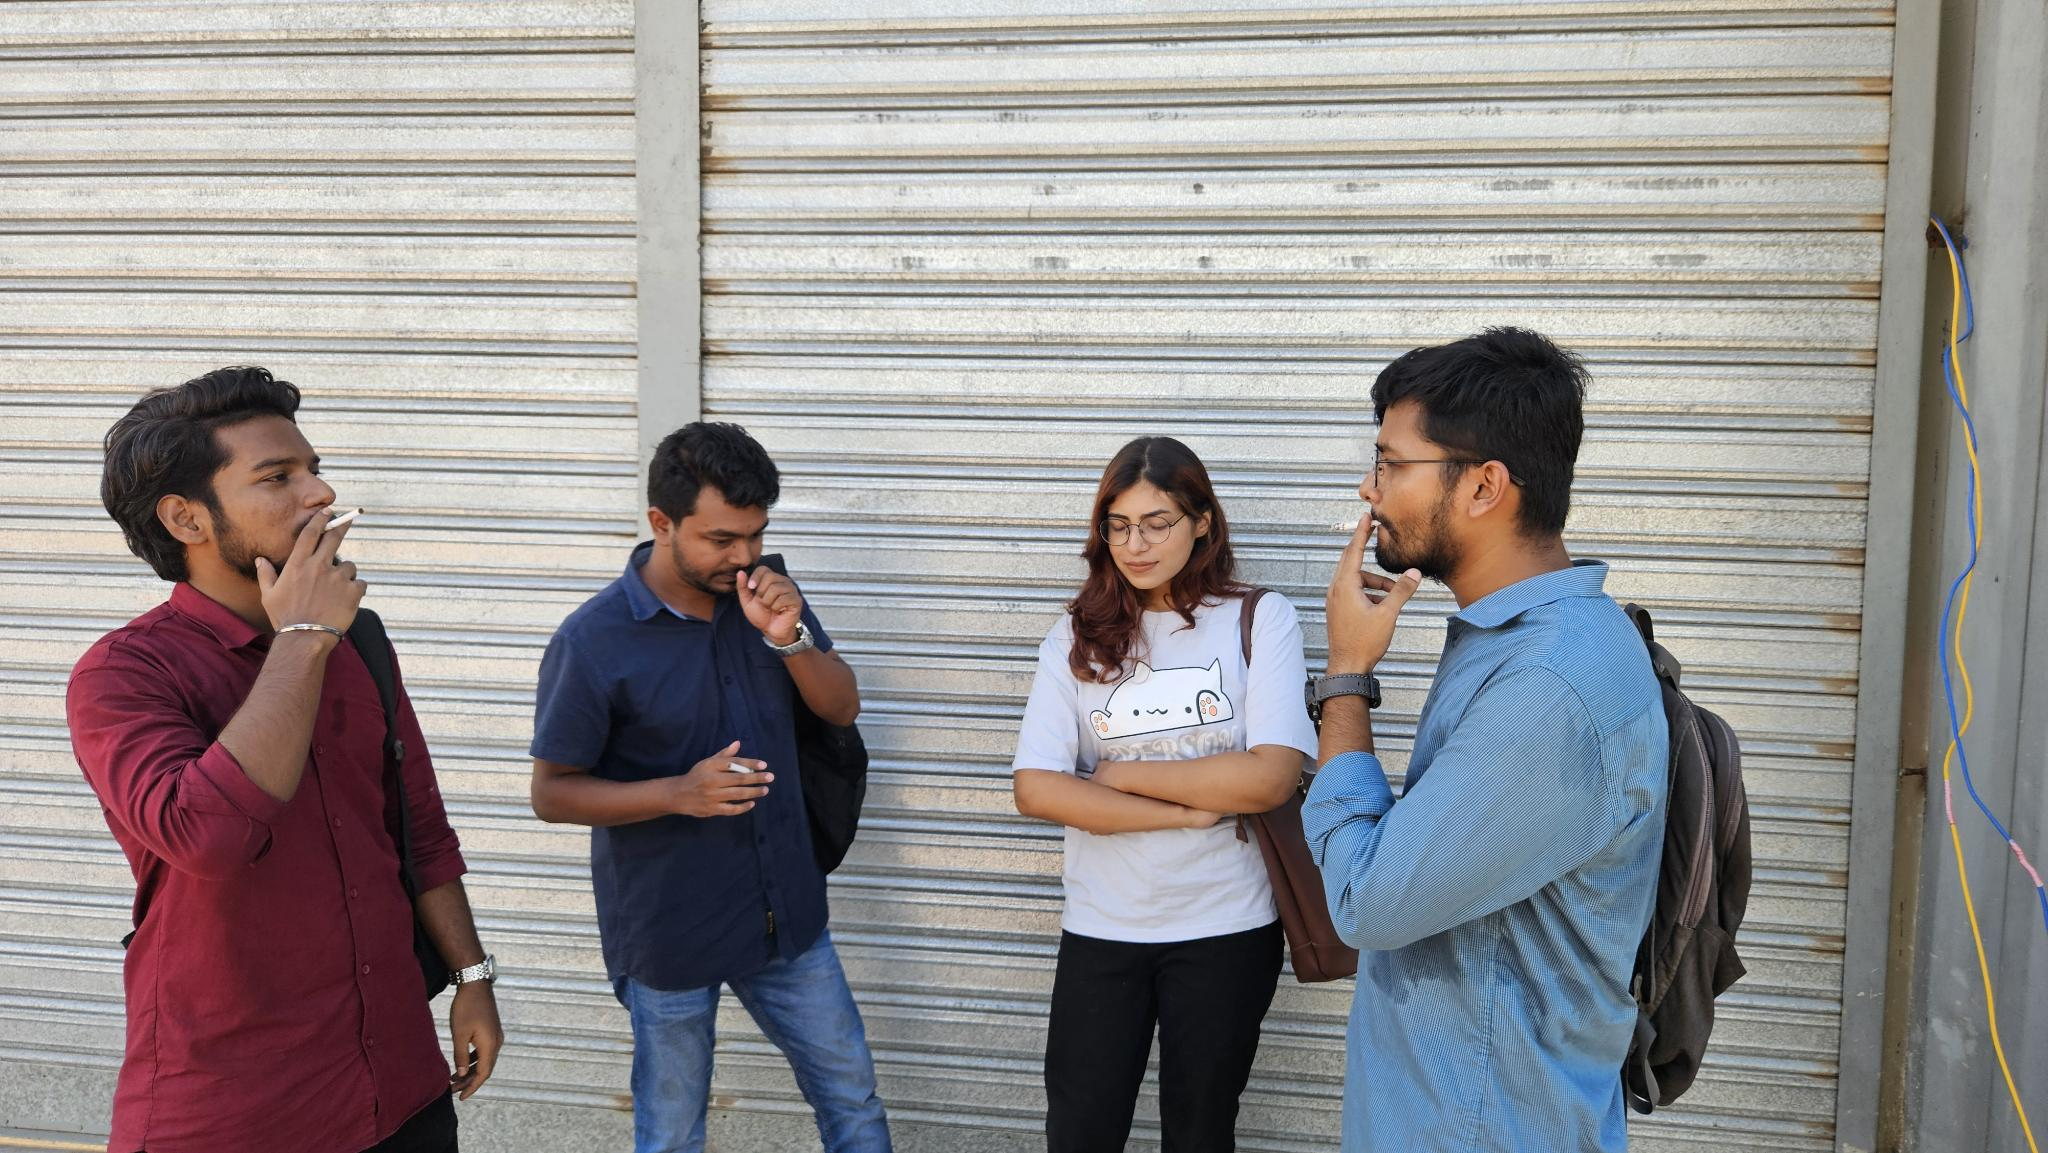cigarette: (318, 506, 367, 537), (1328, 517, 1384, 534), (723, 761, 757, 776)
nonSmoker: (1014, 434, 1356, 1153)
smoker: (1300, 328, 1753, 1153), (66, 366, 506, 1153), (530, 422, 893, 1153)
